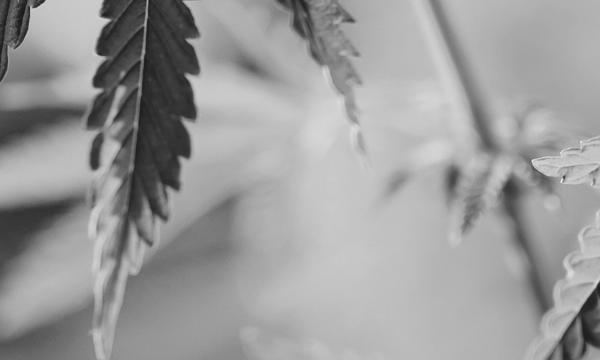cannabis: (0, 0, 477, 349)
